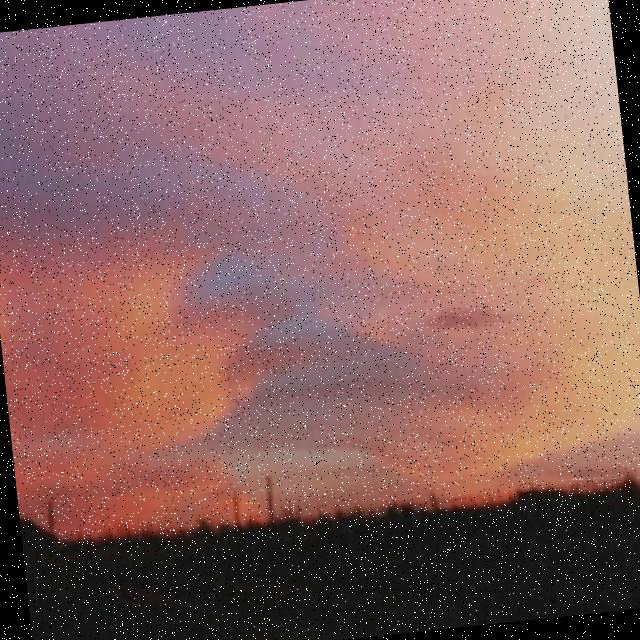Cs: (1, 2, 640, 511)
